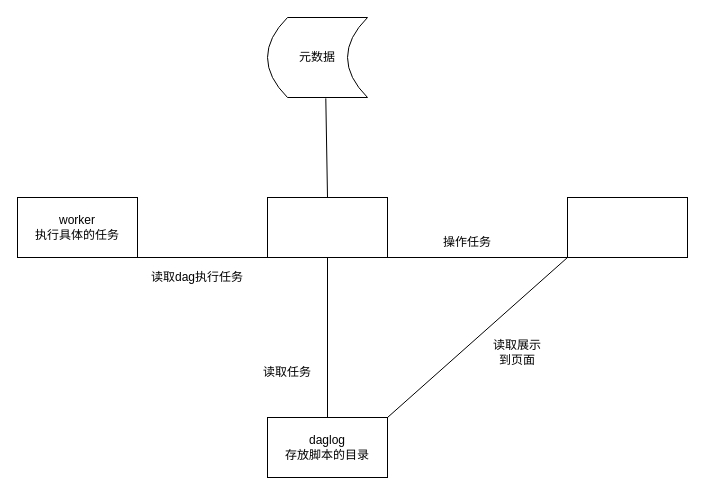
The diagram is 705 pixels wide and 495 high, and some of its shapes have lost their labels. The shapes that lost their labels are listed below. From the top down, each one's centre as x and y in pixels, then its label:
At point (327, 227): "scheduler 调度中心 由task生成DAG".
At point (627, 227): "UI".
